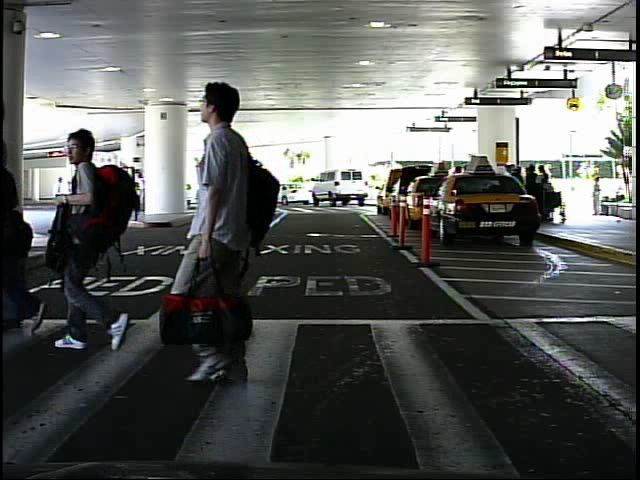person: (177, 77, 288, 393), (45, 119, 140, 356), (588, 173, 607, 219), (56, 171, 66, 220)
